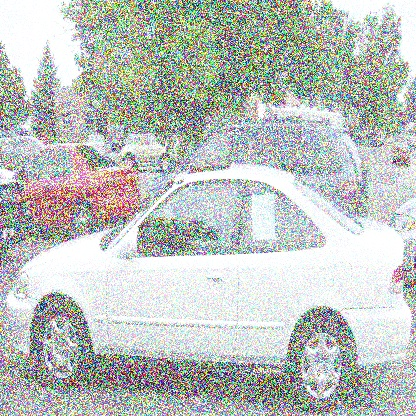Vehicle: (3, 161, 414, 410)
